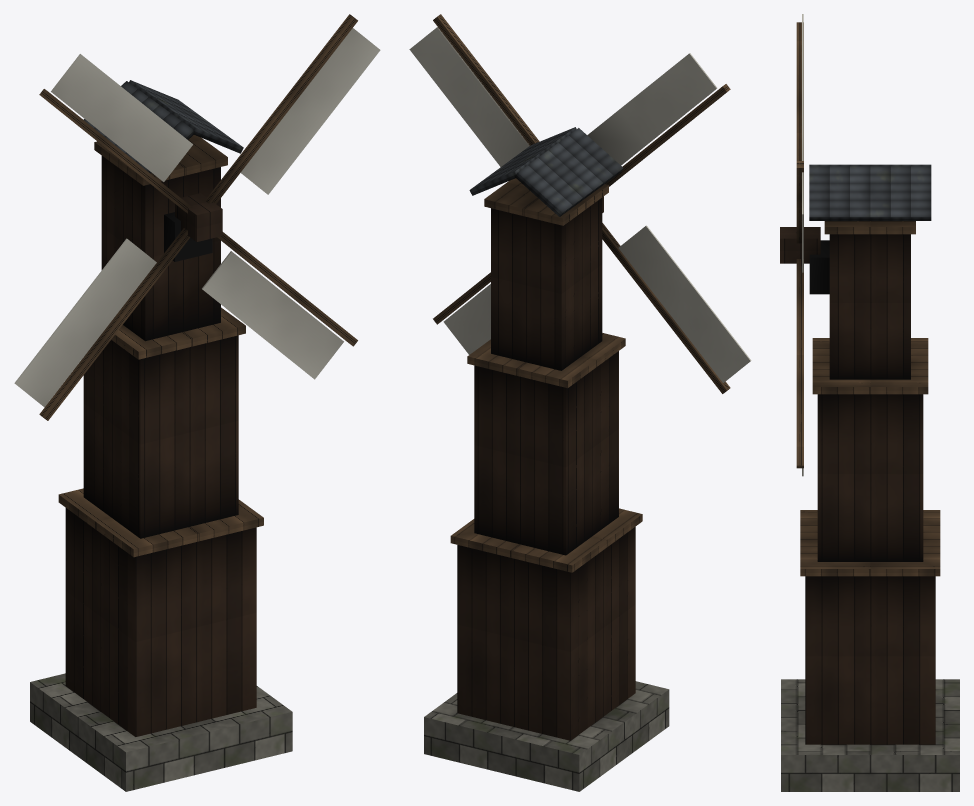
Rendered from windmill.glb.
3 views of the same model, side by side, from view 1: azimuth 30°, elevation 25°; view 2: azimuth 150°, elevation 25°; view 3: azimuth 270°, elevation 25° (orthographic). The views are drawn at different scales.
Visible parts, largest first — view 1: windmill, windmill_rotor; view 2: windmill, windmill_rotor; view 3: windmill, windmill_rotor.
Part boxes in pixels (x1,y1,x2,y2): windmill: [30, 80, 292, 791]; windmill_rotor: [14, 14, 380, 420]; windmill: [424, 127, 669, 791]; windmill_rotor: [409, 14, 751, 393]; windmill: [781, 164, 959, 791]; windmill_rotor: [780, 14, 820, 476].
Size of the model in its own units: 4.83 by 9.31 by 2.21.
6 materials, 6 textured.
